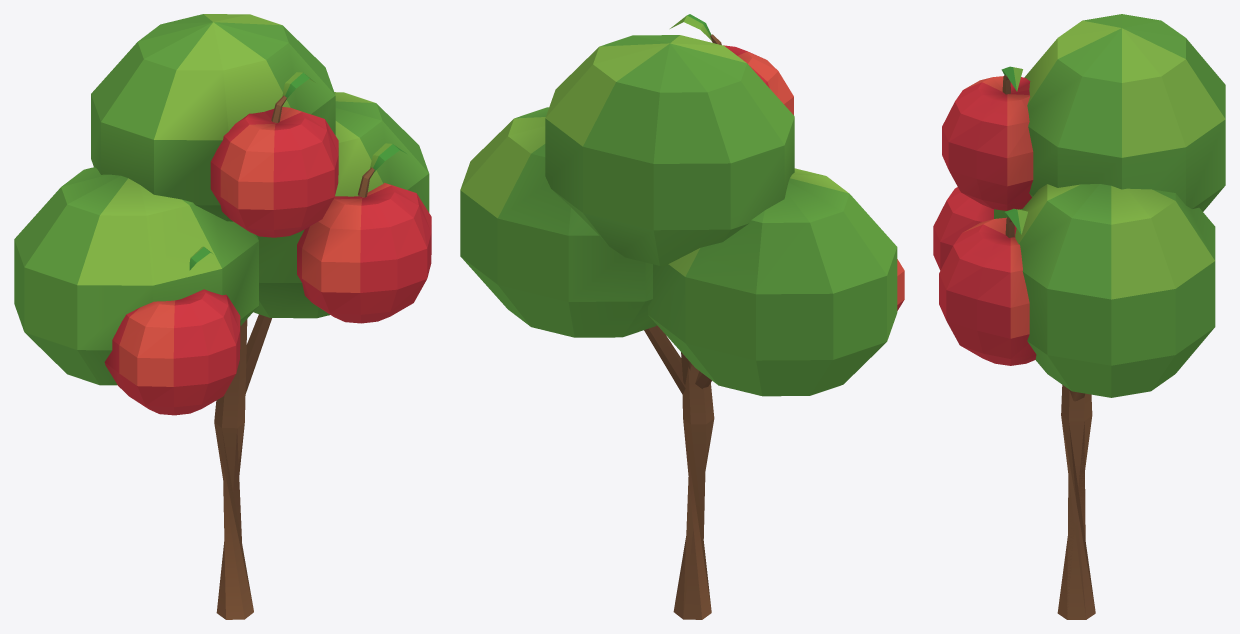
The model's file is Apple_4.glb.
The picture shows the model from 3 angles, left to right: view 1: azimuth 30°, elevation 25°; view 2: azimuth 150°, elevation 25°; view 3: azimuth 270°, elevation 25°; orthographic projection.
Parts seen in each view (by area): view 1: Apple_4; view 2: Apple_4; view 3: Apple_4.
Boxes of the visible parts, box(x1,y1,x2,y2) form: Apple_4: box(14, 14, 431, 619); Apple_4: box(460, 14, 904, 619); Apple_4: box(933, 14, 1225, 619).
Bounding box in the file's own units: 1.36 × 1.86 × 0.8409.
